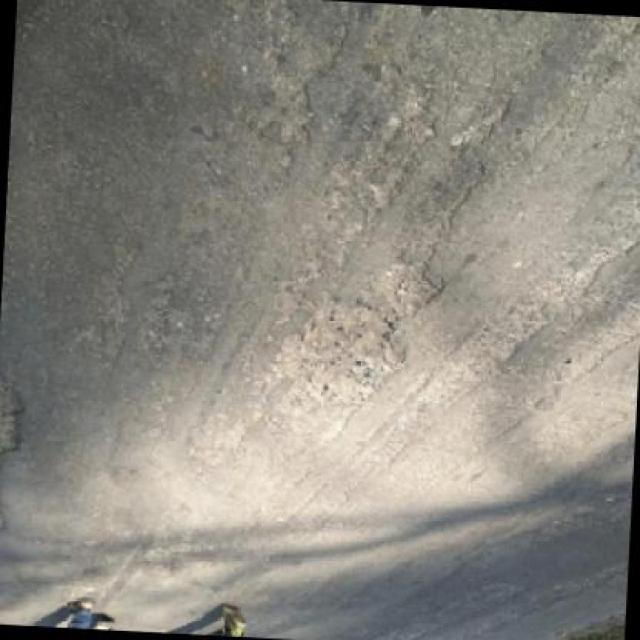pothole1: (263, 297, 406, 406), (378, 262, 444, 315)
